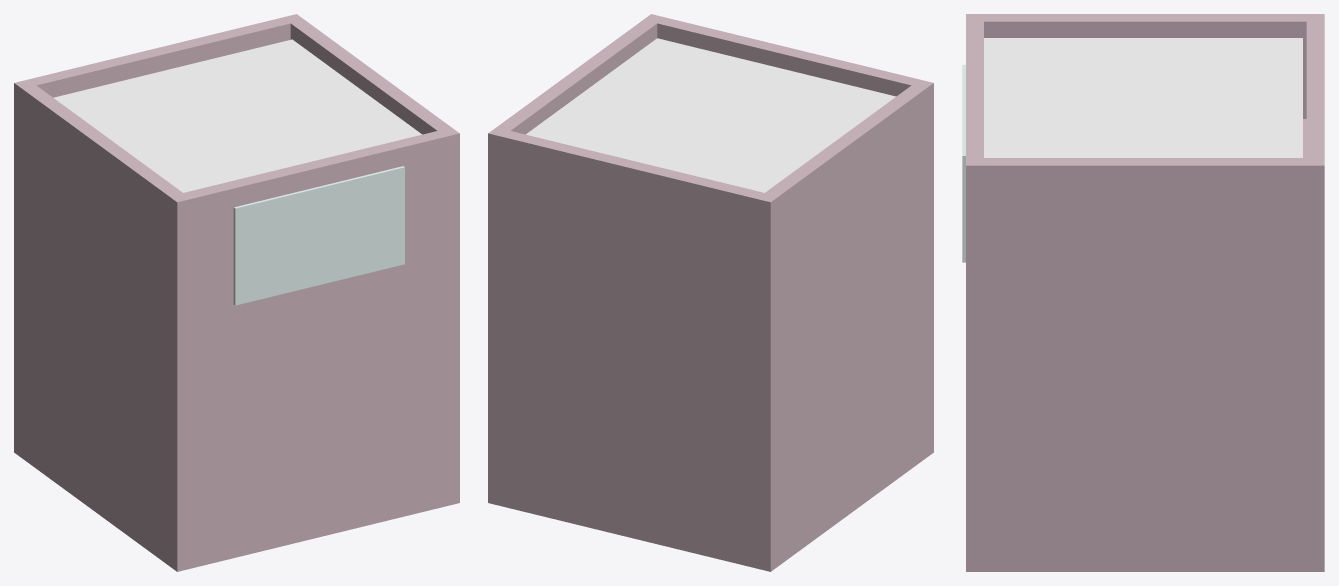
Rendered from Plinth.dae.
3 renders of one model, left to right at view 1: azimuth 30°, elevation 25°; view 2: azimuth 150°, elevation 25°; view 3: azimuth 270°, elevation 25°, orthographic. The views are drawn at different scales.
Visible parts, largest first — view 1: Plinth (×2), Water, Didact; view 2: Plinth (×2), Water; view 3: Plinth (×2), Water, Didact.
Part boxes in pixels (bbox=[...]): Plinth (×2): bbox=[14, 14, 459, 571]; Water: bbox=[53, 39, 421, 192]; Didact: bbox=[233, 166, 404, 305]; Plinth (×2): bbox=[488, 14, 933, 571]; Water: bbox=[526, 38, 895, 192]; Plinth (×2): bbox=[966, 14, 1324, 571]; Water: bbox=[984, 38, 1302, 157]; Didact: bbox=[962, 65, 965, 262].
Bounding box in the file's own units: 39.37 × 39.76 × 49.21.
